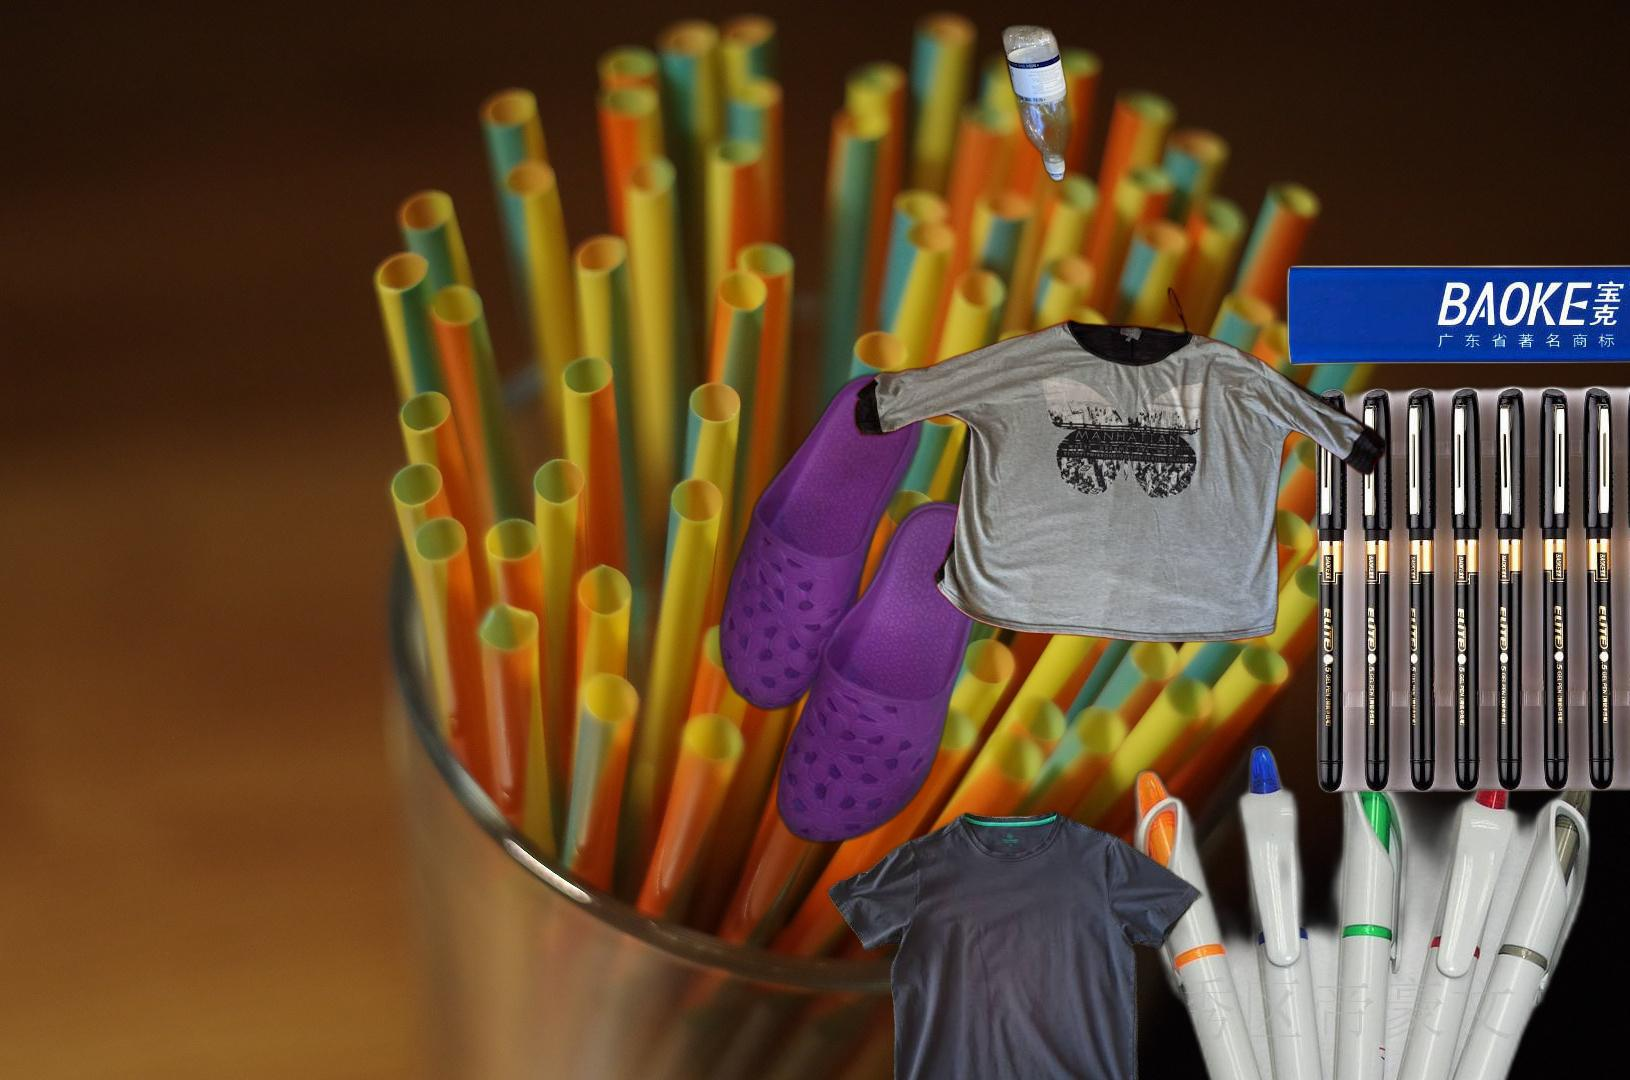clothes: (851, 284, 1385, 646), (823, 808, 1207, 1080)
penholder: (1281, 259, 1630, 827), (1124, 720, 1600, 1080)
plastic-bottles: (996, 20, 1077, 184)
shoes: (716, 368, 995, 849)
